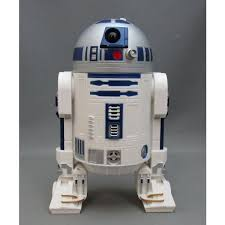r2d2: (49, 17, 176, 215)
